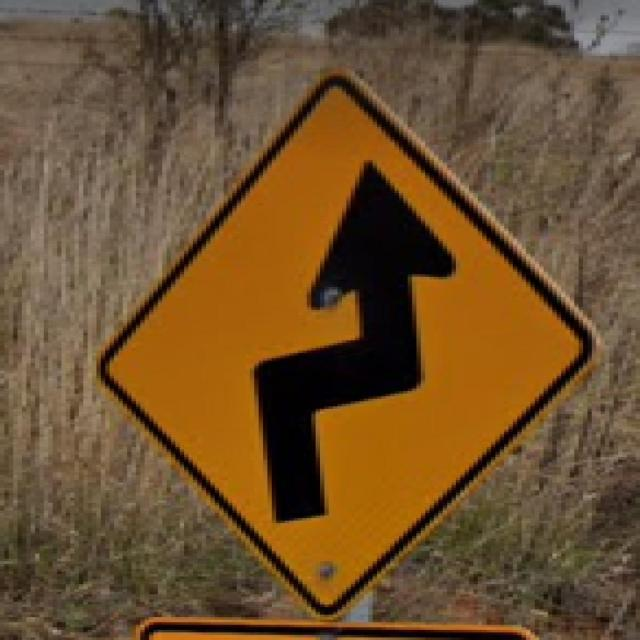Tikungan Ganda Pertama Ke Kanan: (83, 61, 601, 617)
